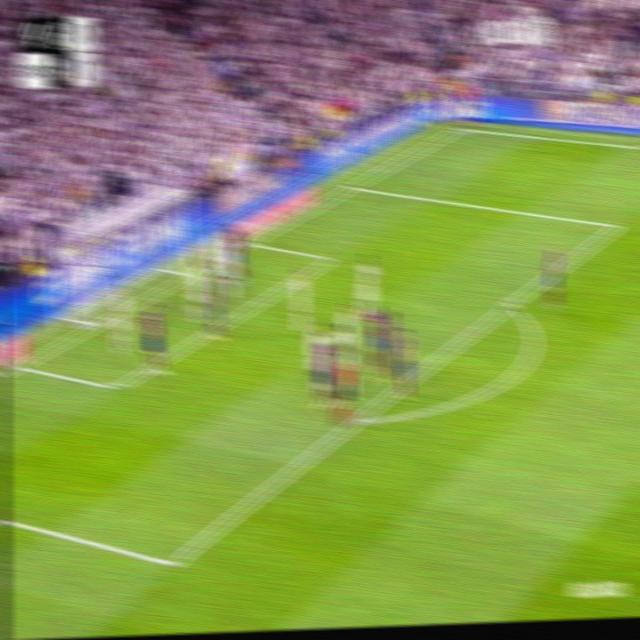bigarea_bottom_inner: (163, 545, 183, 582)
bigarea_top_inner: (609, 215, 624, 236)
bigarea_top_outter: (346, 177, 362, 194)
bottom_arc_area_intersection: (350, 409, 367, 429)
corner: (451, 122, 467, 134)
smallarea_bottom_inner: (109, 377, 125, 399)
smallarea_bottom_outter: (13, 357, 28, 374)
smallarea_top_inner: (324, 250, 339, 267)
smallarea_top_outter: (244, 235, 258, 251)
top_arc_area_intersection: (502, 292, 519, 315)
